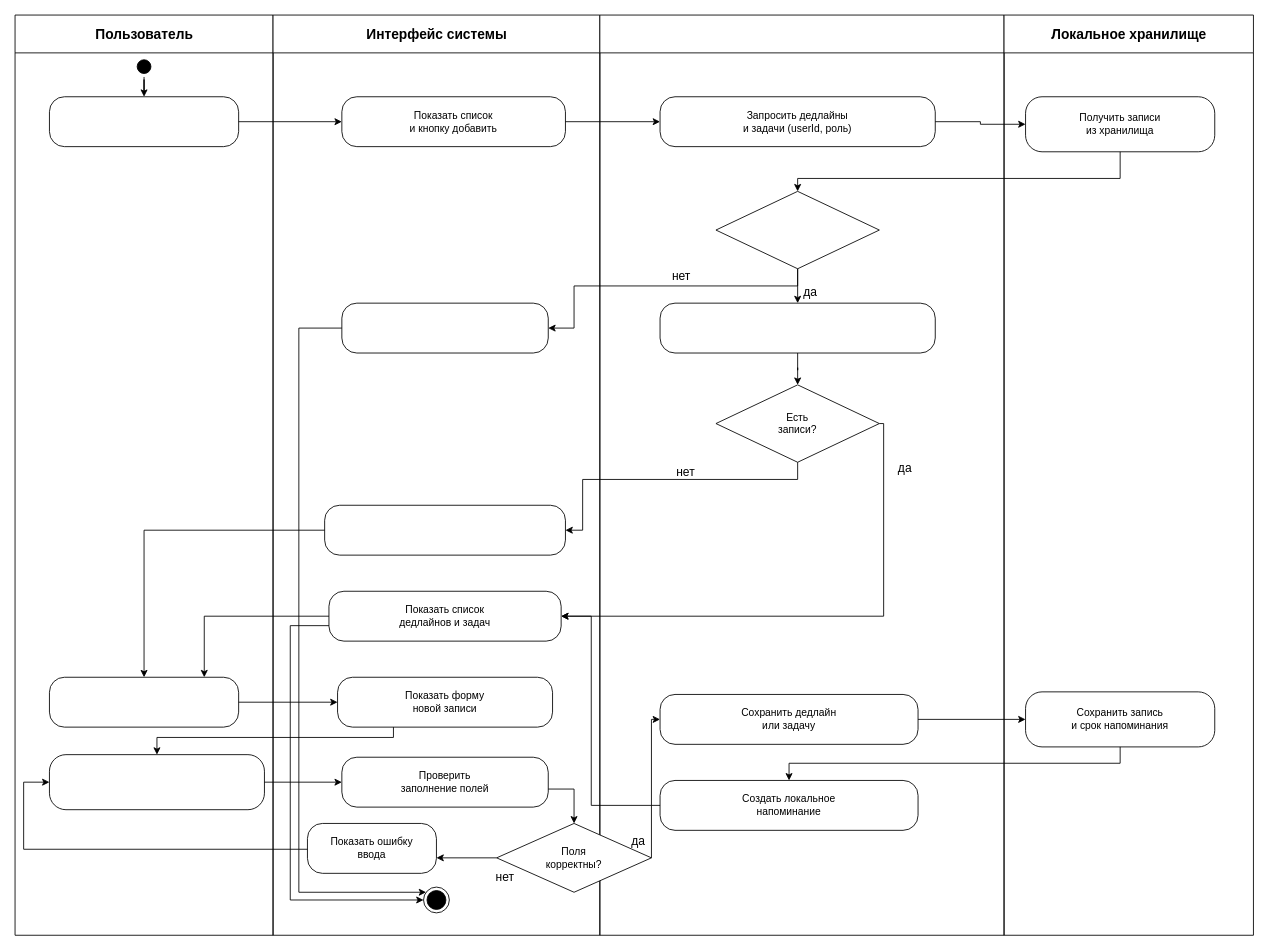
Some shapes in this 1269 by 950 pixel diagram are drawn without their labels. Here are the shapes that lost their labels. From the top down, the box of each, then its label:
(49, 96, 239, 147): Открыть дедлайны и задачи
(715, 190, 879, 269): Данные получены?
(341, 302, 548, 353): Показать ошибку загрузки
(659, 302, 935, 353): Отсортировать по дате, предмету и приоритету
(599, 14, 1004, 935): Модуль дедлайнов и задач
(324, 504, 565, 555): Показать пустой список и кнопку добавить
(49, 676, 239, 727): Нажать добавить
(49, 754, 264, 810): Ввести предмет, описание, дату, время, приоритет
